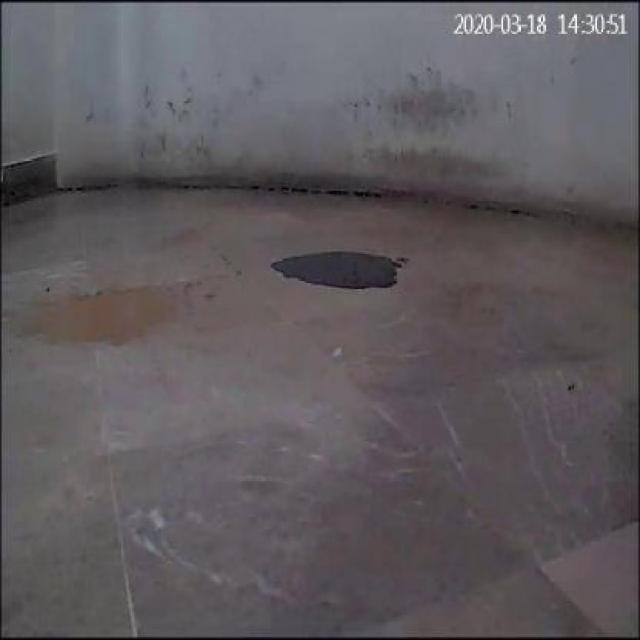spill: (270, 249, 401, 286)
